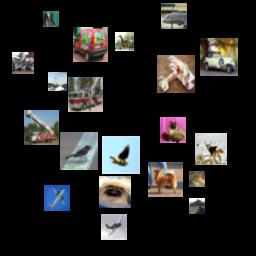airplane: (157, 55, 195, 93), (44, 185, 70, 211), (161, 3, 187, 29), (101, 214, 127, 240)
automobile: (200, 38, 238, 76), (73, 27, 108, 62)
bird: (102, 136, 140, 174), (60, 132, 98, 170)
cat: (160, 117, 186, 143), (43, 11, 59, 27)
deer: (195, 133, 227, 165), (189, 171, 205, 187)
dog: (148, 162, 183, 197), (99, 176, 131, 208)
ship: (48, 72, 67, 91)
truck: (24, 110, 59, 145), (68, 77, 103, 112)
